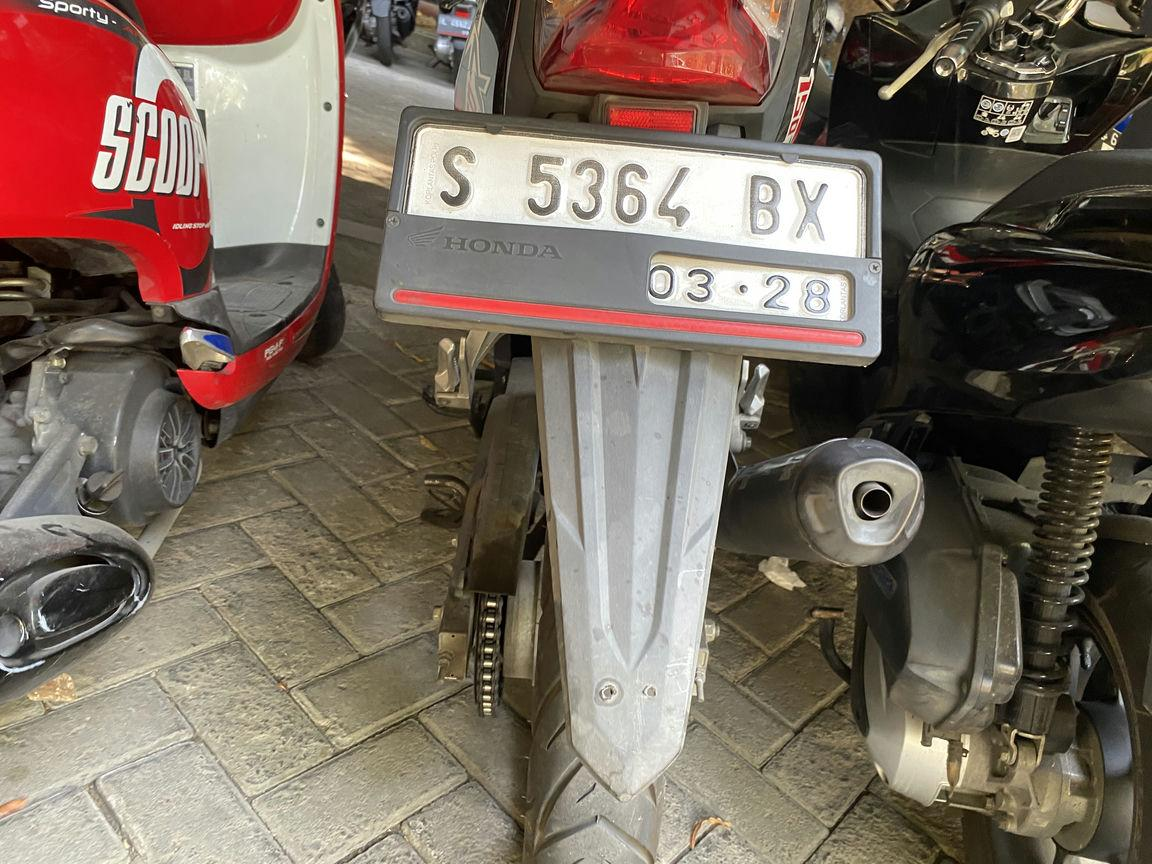plat: (378, 108, 880, 364)
